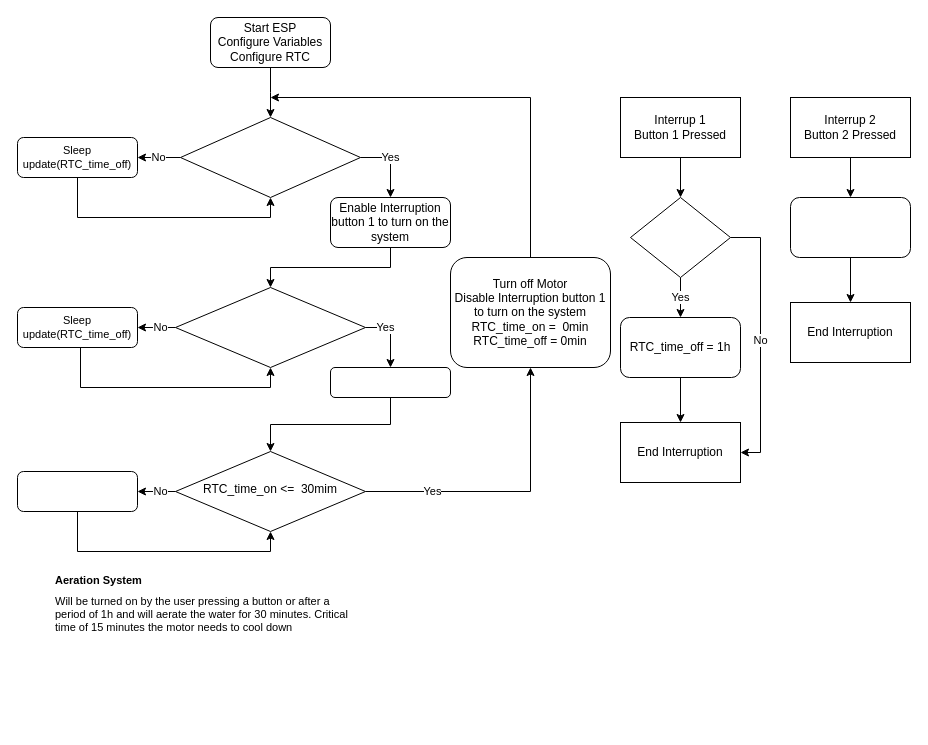
The diagram is 928 pixels wide and 745 high, and some of its shapes have lost their labels. Here are the shapes that lost their labels. From the top down, the centre of each, then its label:
At point 270,157: "RTC_time_off >= 15min".
At point 680,237: "Enable Interruption button?".
At point 850,227: "RTC_time_on = 30min".
At point 270,327: "RTC_time_off >= 1h".
At point 390,382: "Turn on Motor RTC_time_on = 0min".
At point 77,491: "Sleep update(RTC_time_on)".
